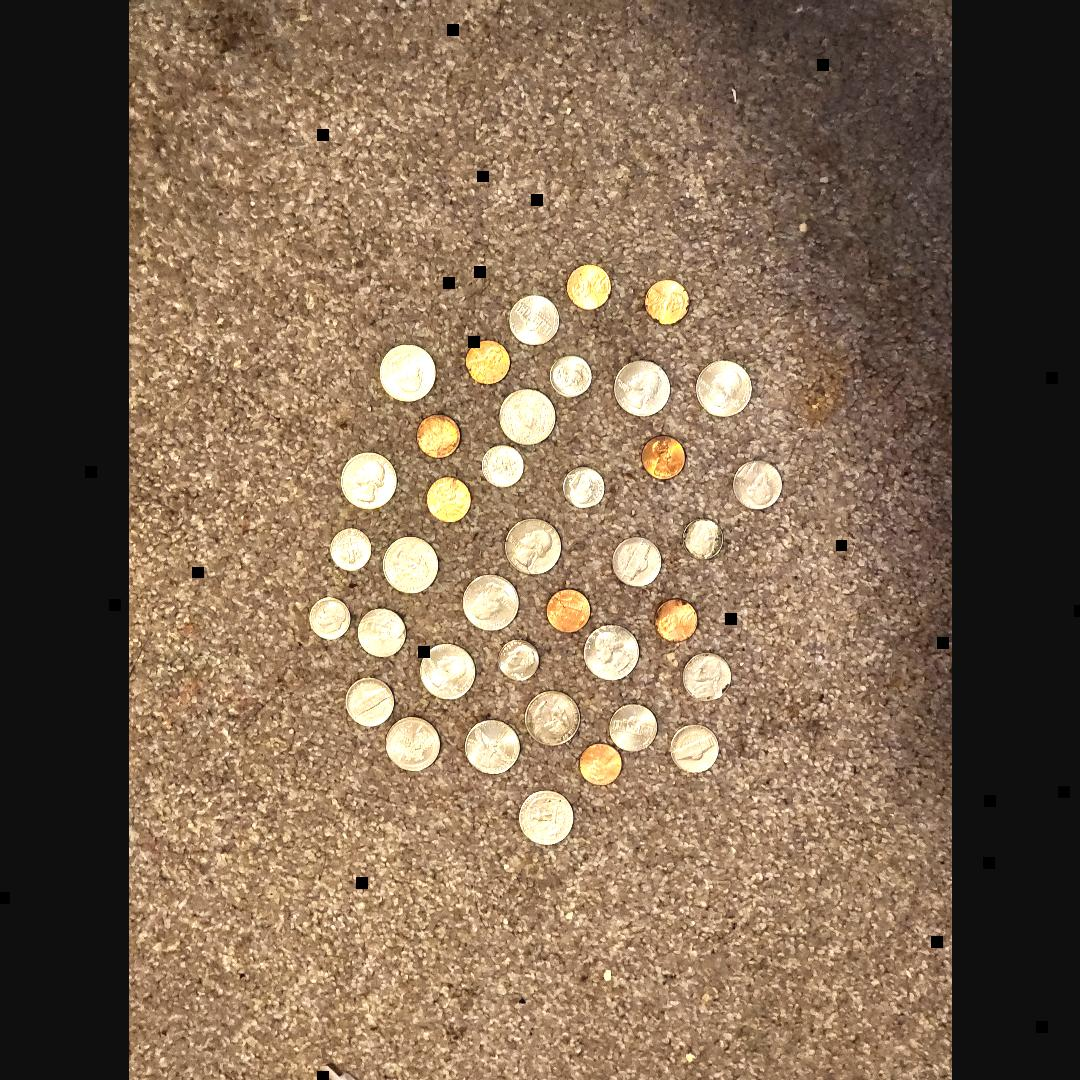Dime: (548, 354, 594, 398), (481, 444, 524, 488), (309, 598, 351, 642), (562, 468, 604, 510), (330, 528, 370, 570), (498, 639, 538, 681), (683, 518, 723, 558)
Nickel: (609, 535, 663, 588), (731, 460, 783, 512), (356, 606, 406, 658), (346, 676, 395, 728), (680, 653, 732, 702), (510, 295, 558, 347), (670, 723, 718, 773), (608, 703, 656, 752)
Penny: (564, 264, 612, 312), (644, 279, 690, 327), (640, 434, 686, 481), (414, 414, 462, 459), (545, 588, 591, 634), (425, 476, 471, 522), (464, 341, 510, 386), (654, 598, 698, 642), (578, 742, 622, 785)
Quarter: (460, 574, 522, 631), (612, 360, 672, 418), (694, 358, 752, 418), (383, 534, 439, 596), (498, 389, 557, 447), (524, 690, 582, 747), (582, 624, 640, 680), (380, 342, 434, 402), (340, 451, 396, 508), (418, 644, 474, 700), (386, 716, 442, 771), (503, 518, 560, 572), (464, 720, 520, 774), (519, 790, 575, 844)
